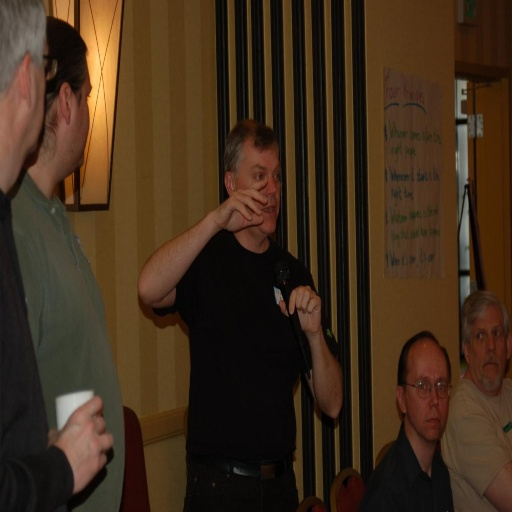hand: (47, 394, 115, 495), (213, 177, 268, 234), (289, 284, 327, 343)
